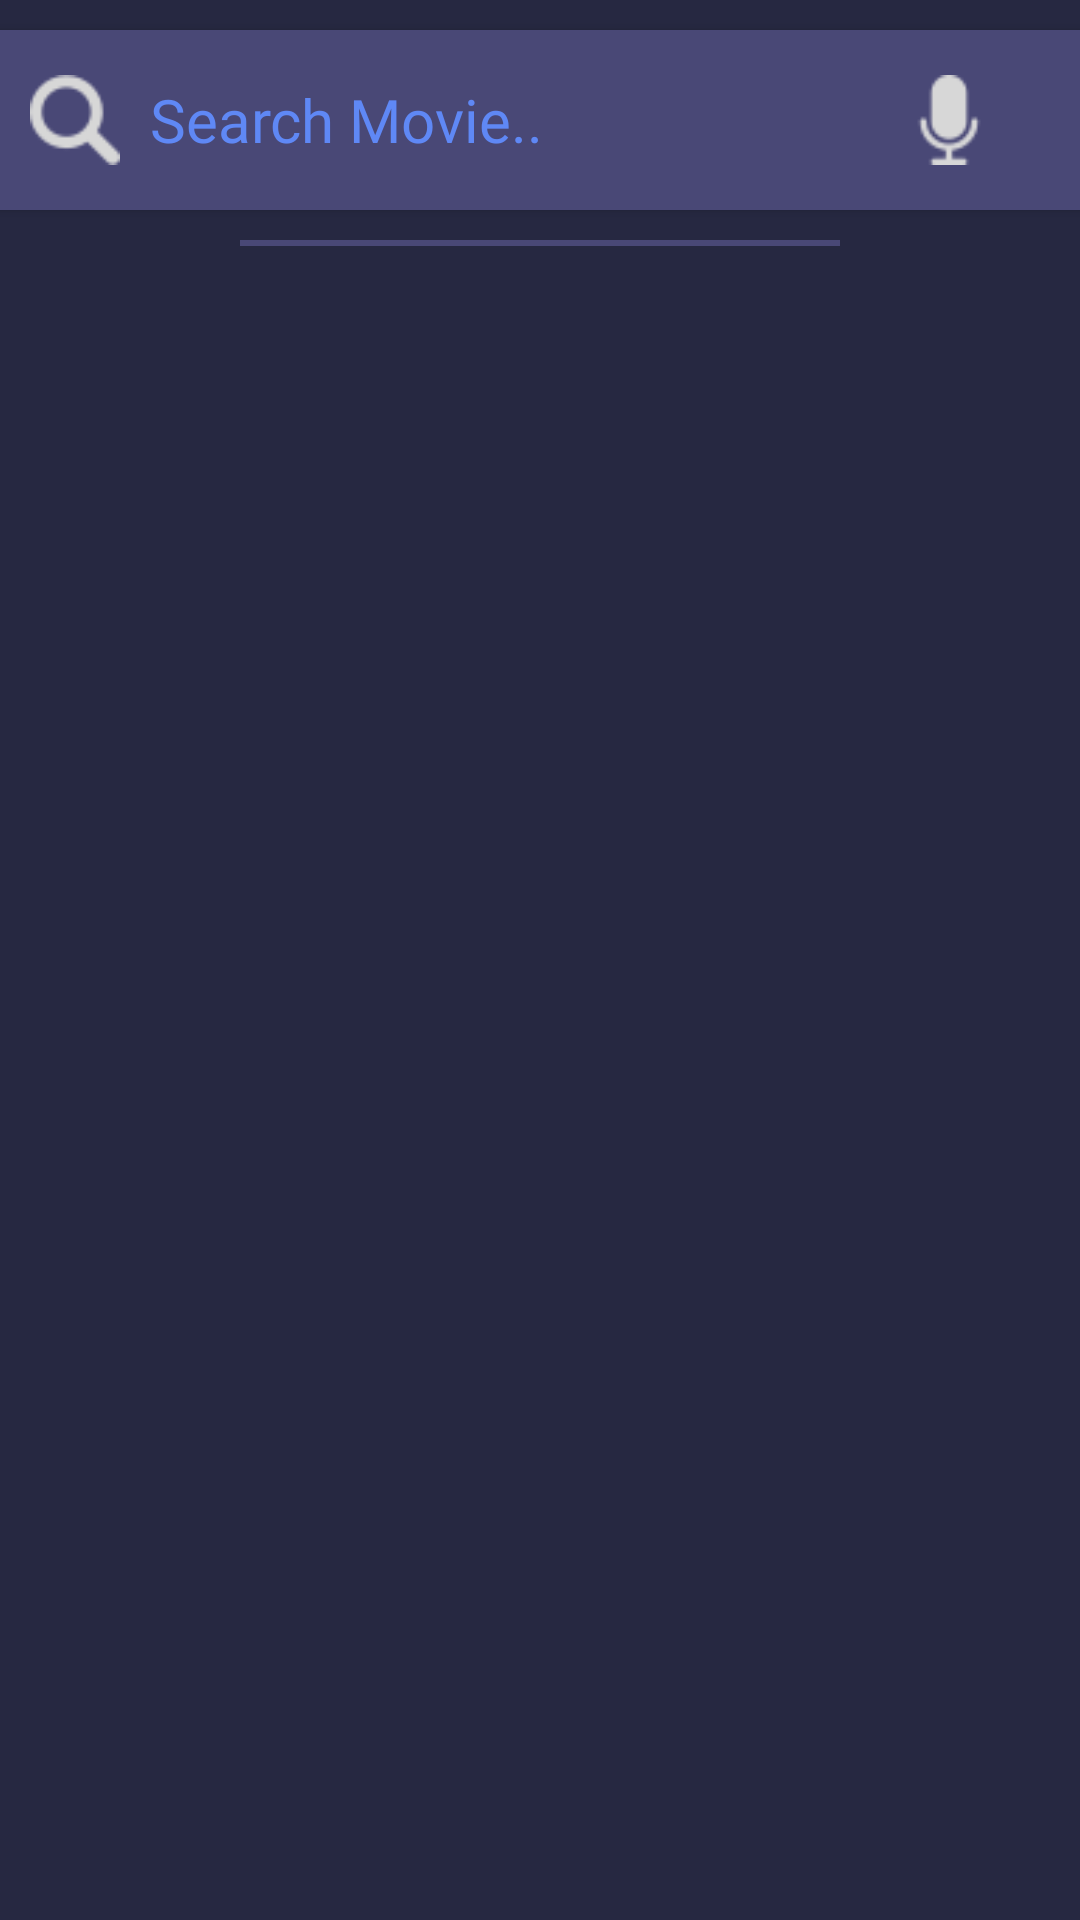

Icon bounding boxes for this 1080 x 1920 phone screenshot, format (x1, y1, x2, y2):
voice: (919, 75, 979, 165)
